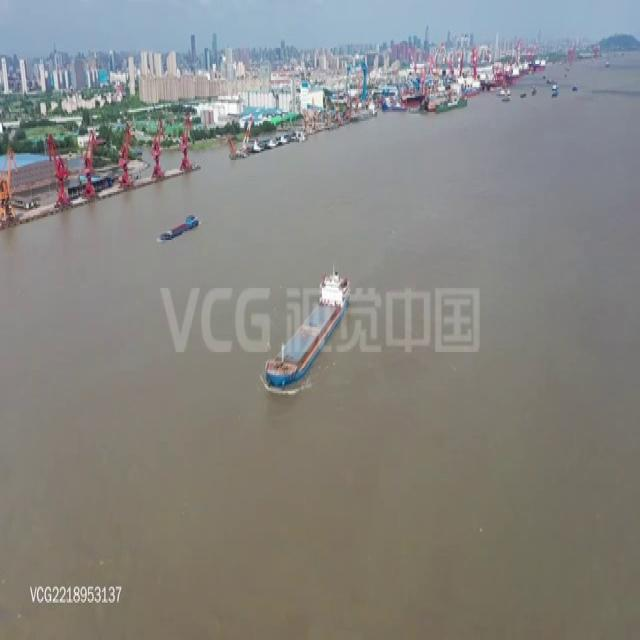cargoship: (263, 267, 349, 395), (152, 207, 202, 245)
